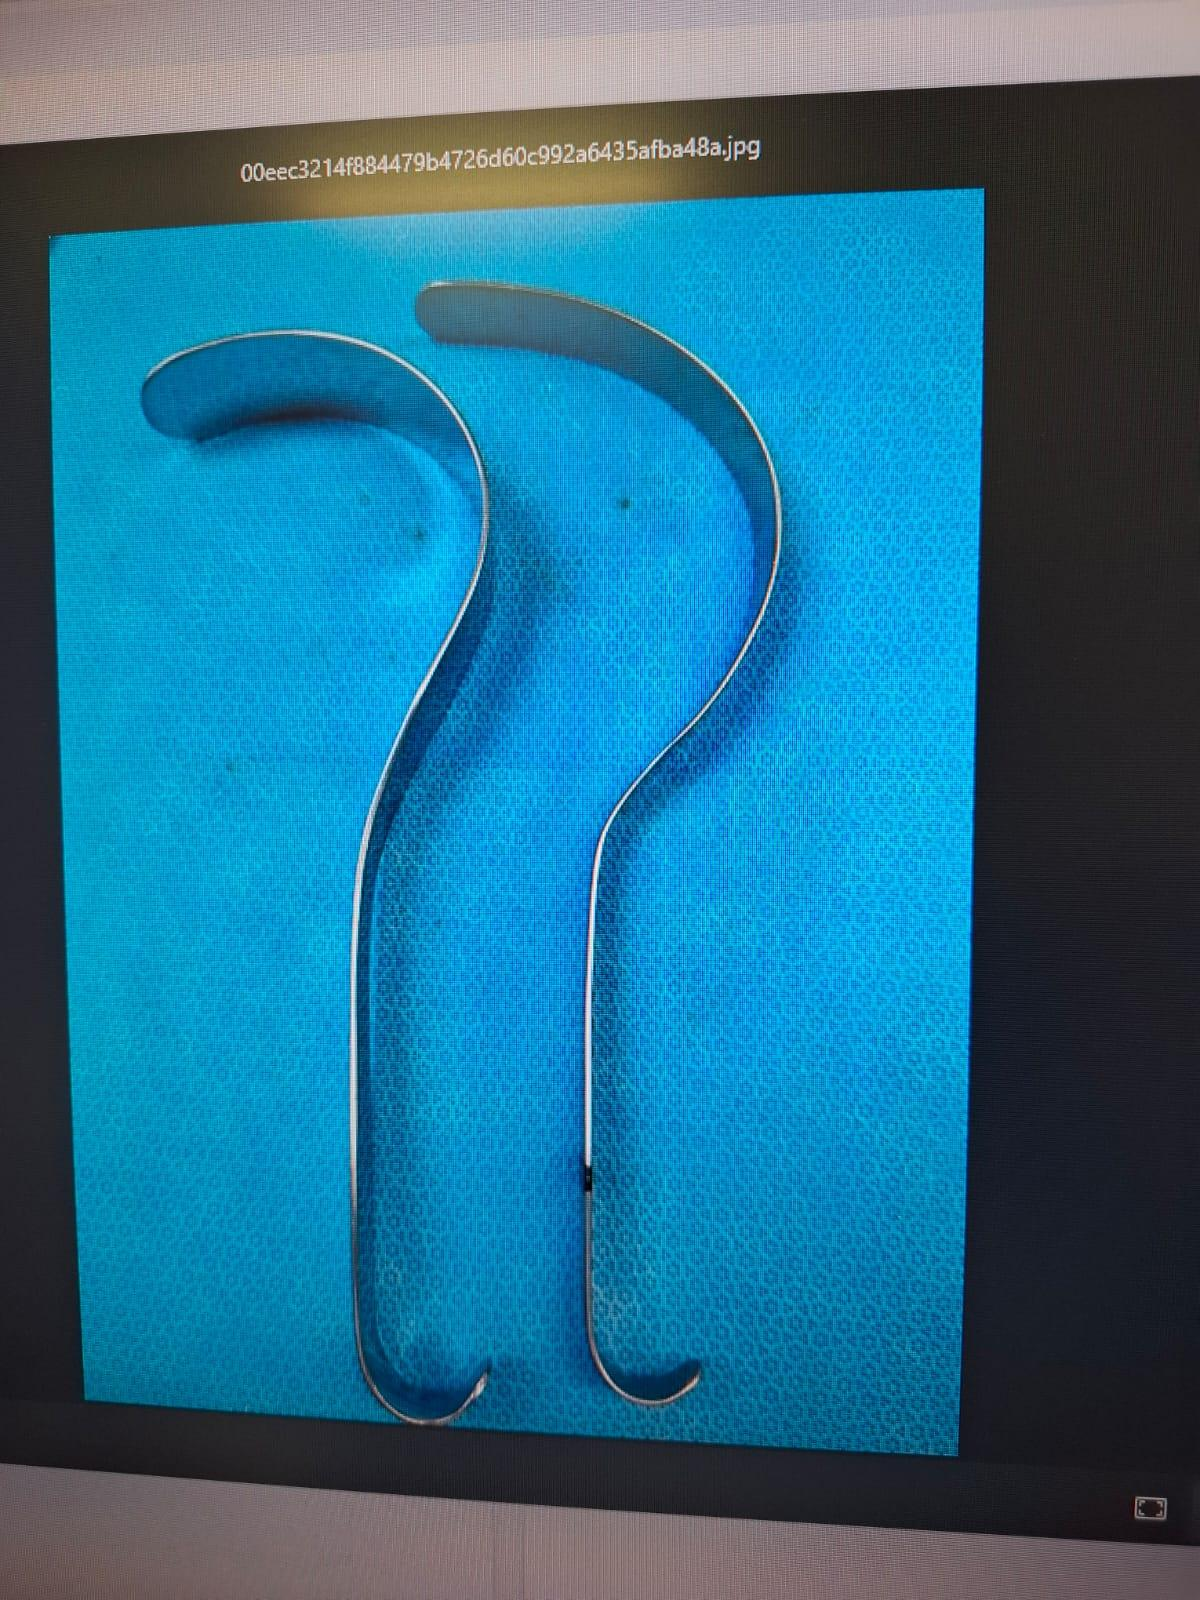Deaver Retractor: (133, 315, 535, 1448), (405, 275, 795, 1442)
